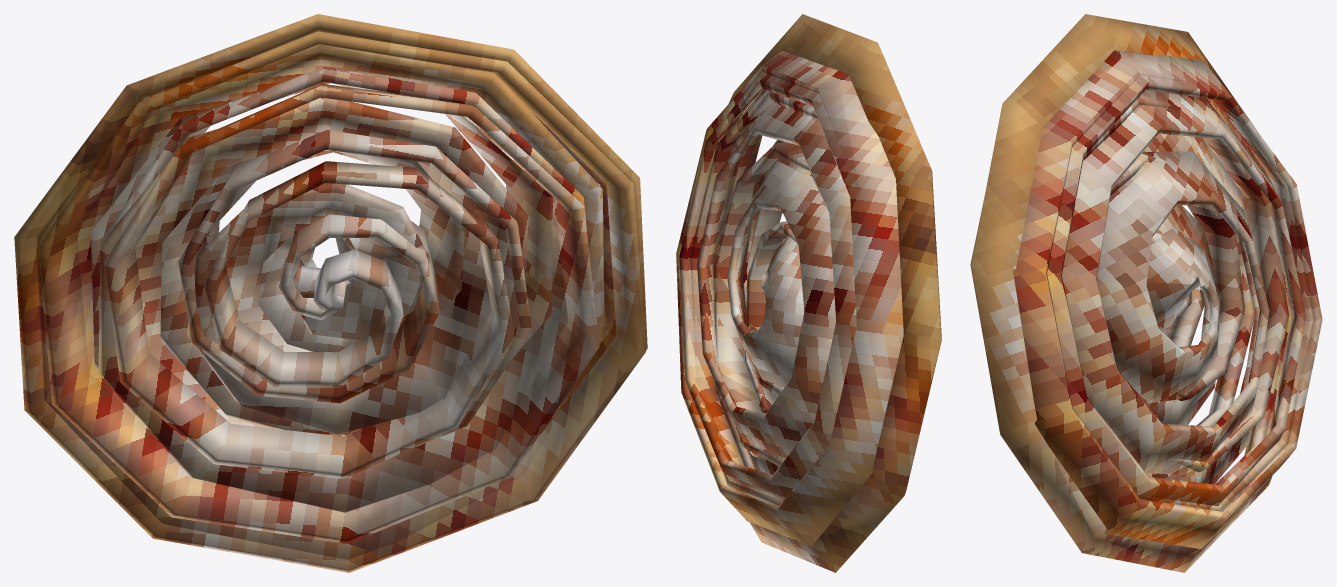
Rendered from H_FunnelCake.fbx.
The picture shows the model from 3 angles, left to right: view 1: azimuth 30°, elevation 25°; view 2: azimuth 150°, elevation 25°; view 3: azimuth 270°, elevation 25°; orthographic projection. The views are drawn at different scales.
Parts seen in each view (by area): view 1: FunnelCake; view 2: FunnelCake; view 3: FunnelCake.
Boxes of the visible parts, bbox=[...] form: FunnelCake: bbox=[14, 14, 647, 572]; FunnelCake: bbox=[676, 14, 941, 572]; FunnelCake: bbox=[970, 14, 1322, 572].
Size of the model in its own units: 19.32 by 24.34 by 14.88.
